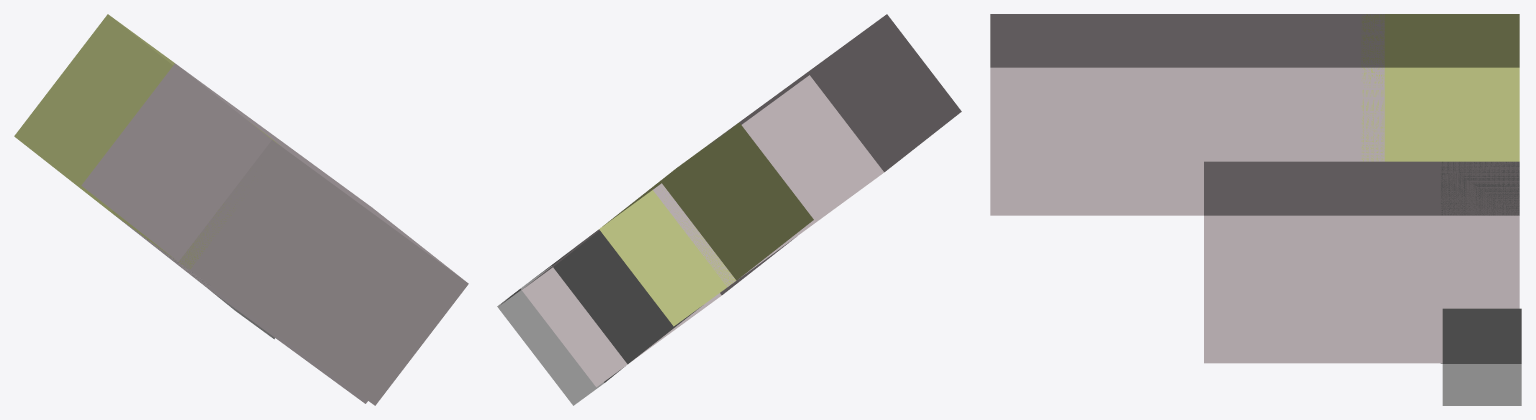
3 views of the same model, side by side, from view 1: azimuth 30°, elevation 25°; view 2: azimuth 150°, elevation 25°; view 3: azimuth 270°, elevation 25° (orthographic). The views are drawn at different scales.
Parts seen in each view (by area): view 1: 0_1_2_0_3_0_2_0_2_3; view 2: 0_1_2_0_3_0_2_0_2_3; view 3: 0_1_2_0_3_0_2_0_2_3.
Boxes of the visible parts, left/top/right/bottom form: 0_1_2_0_3_0_2_0_2_3: left=14, top=14, right=468, bottom=405; 0_1_2_0_3_0_2_0_2_3: left=497, top=14, right=961, bottom=405; 0_1_2_0_3_0_2_0_2_3: left=990, top=14, right=1521, bottom=405.
Size of the model in its own units: 13.98 by 13.82 by 20.21.
